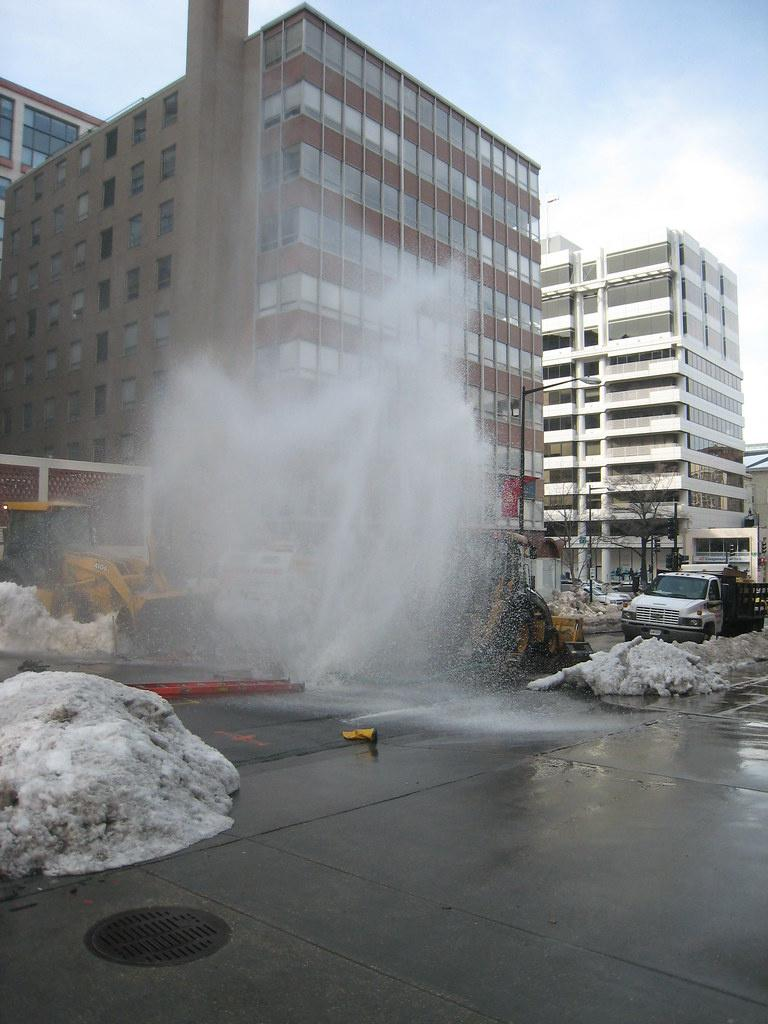pipe burst: (49, 267, 517, 697)
